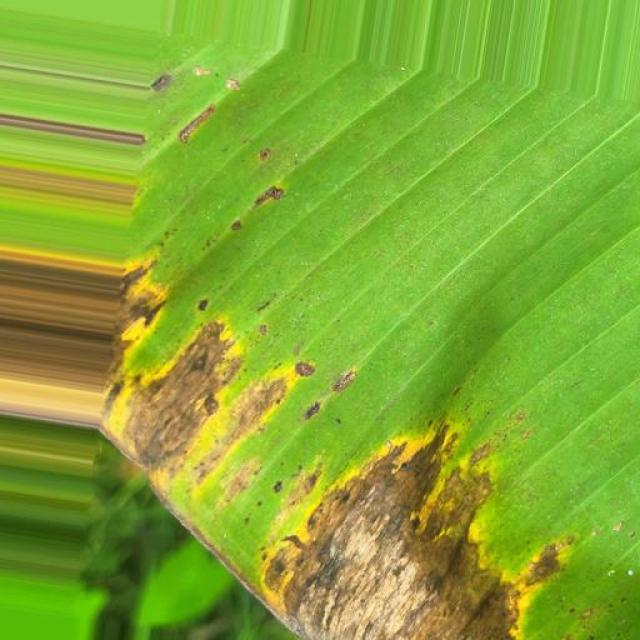Early_rust: (64, 51, 609, 640)
